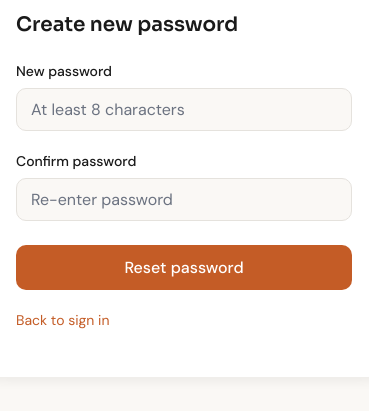
ResetPasswordForm › validates password requirements
This screenshot has width=369, height=411.
In the password field labelled "New password": (184, 110) x1=16 y1=88 x2=352 y2=131, type "short"
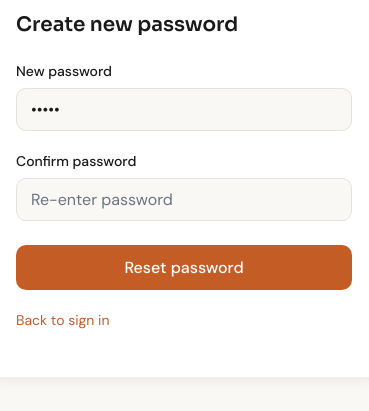
In the password field labelled "Confirm password": (184, 200) x1=16 y1=178 x2=352 y2=221, type "short"
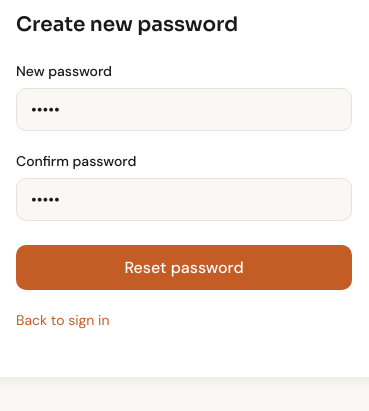
Click the button "Reset password": (184, 268) x1=16 y1=245 x2=352 y2=290
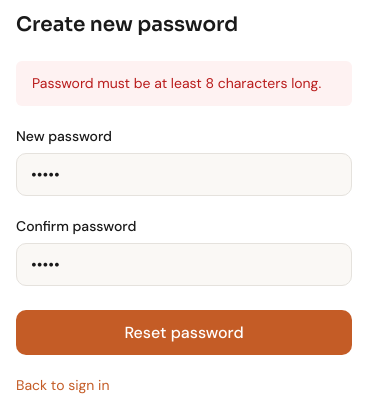
Now the text "Password must be at least 8 characters long." is shown, box x1=16 y1=61 x2=352 y2=106
